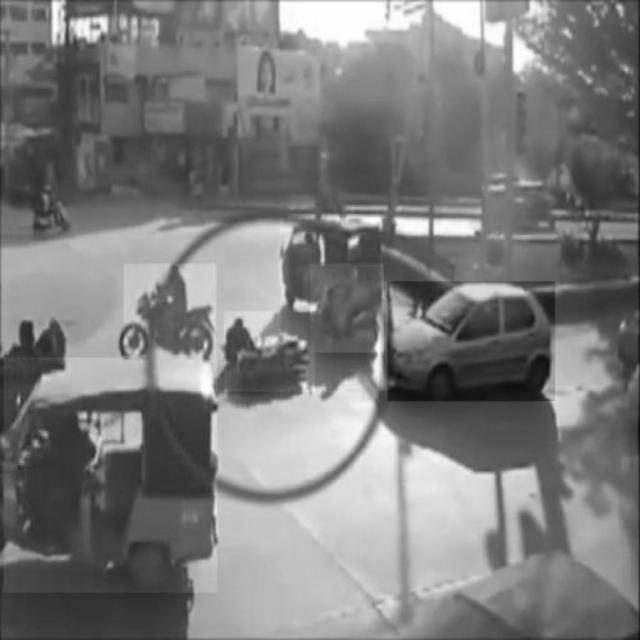vehicle: (4, 358, 218, 592), (388, 282, 555, 402), (280, 218, 382, 312), (124, 264, 216, 362), (224, 312, 315, 392), (311, 264, 384, 352)
